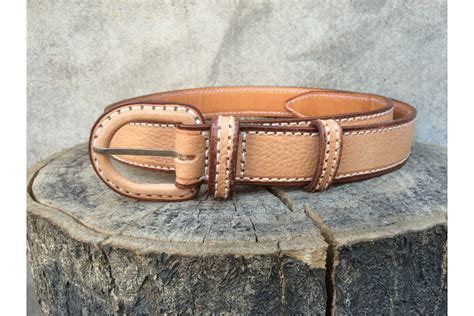cuero: (88, 85, 415, 204)
